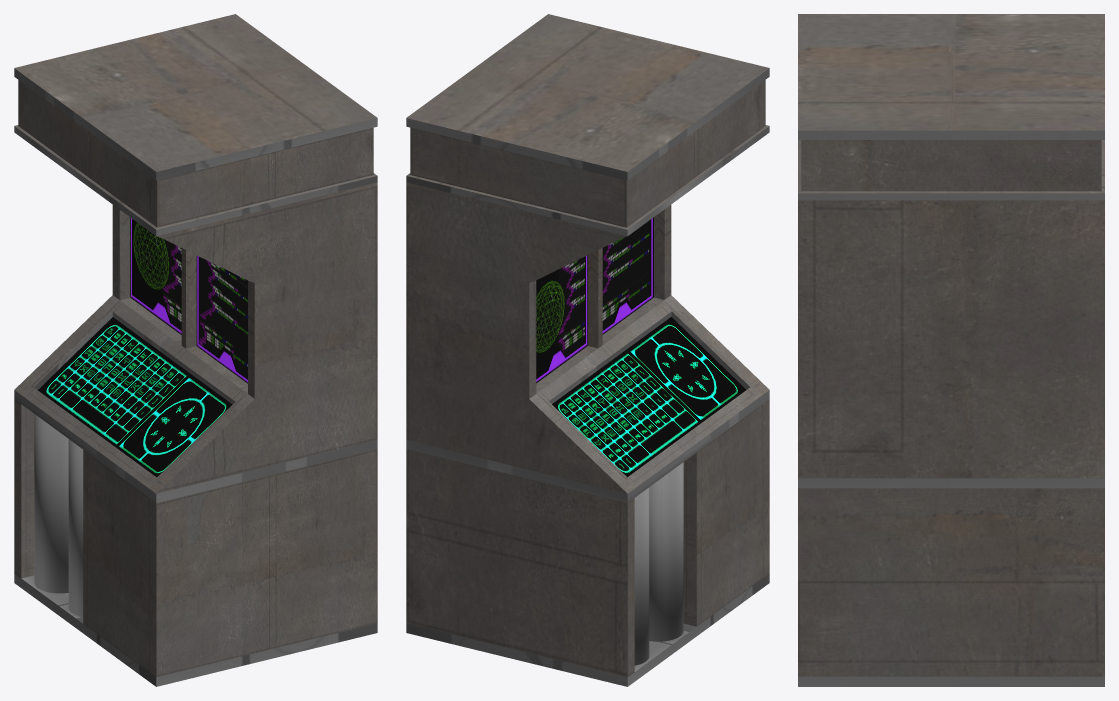
File: cyberpunk.glb
The picture shows the model from 3 angles, left to right: view 1: azimuth 30°, elevation 25°; view 2: azimuth 150°, elevation 25°; view 3: azimuth 270°, elevation 25°; orthographic projection. The views are drawn at different scales.
Visible parts, largest first — view 1: Object_6, Object_7, Object_2, Object_4, Object_3; view 2: Object_6, Object_7, Object_2, Object_3, Object_4; view 3: Object_6, Object_7.
Boxes of the visible parts, x1,y1,x2,y2 form: Object_6: [14, 14, 377, 677]; Object_7: [14, 68, 377, 686]; Object_2: [38, 317, 232, 477]; Object_4: [196, 255, 247, 383]; Object_3: [130, 217, 181, 334]; Object_6: [406, 14, 769, 677]; Object_7: [406, 68, 769, 686]; Object_2: [552, 317, 745, 476]; Object_3: [536, 255, 587, 383]; Object_4: [602, 217, 653, 334]; Object_6: [798, 14, 1104, 676]; Object_7: [798, 130, 1104, 686].
Size of the model in its own units: 1.8 by 4 by 2.
6 materials, 6 textured.
